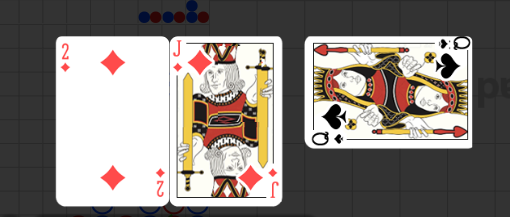2D: (59, 42, 72, 74)
9S: (310, 131, 346, 147), (437, 37, 470, 51)
